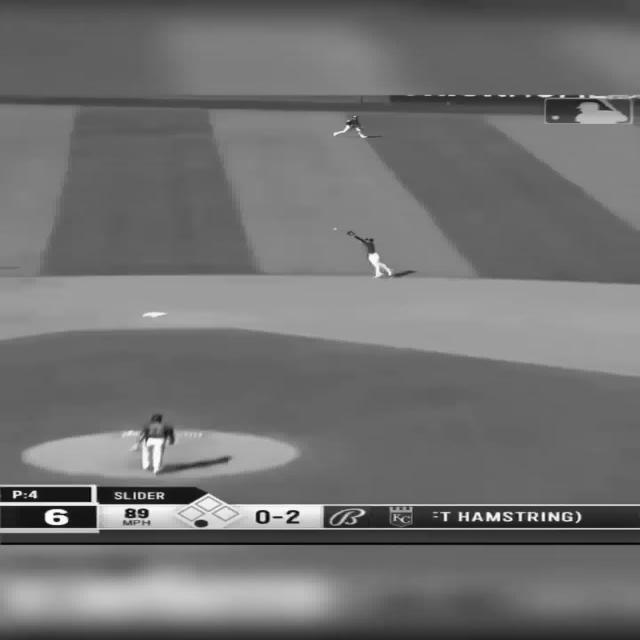baseball: (332, 228, 338, 230)
shoe: (372, 273, 382, 278)
